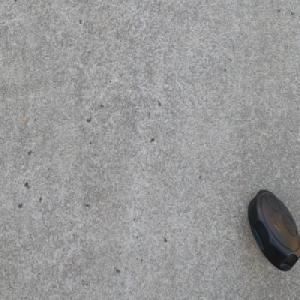FuelCap: (247, 188, 300, 272)
